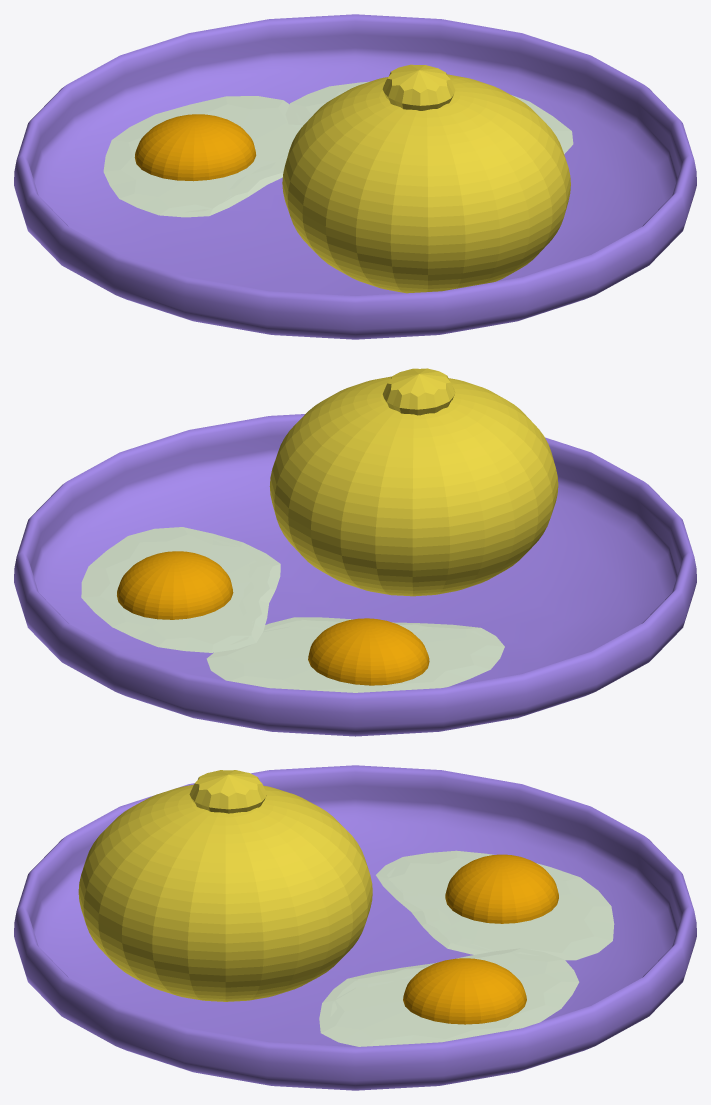
The model's file is cuscus_pratoroxo.fbx.
3 renders of one model, top to bottom at view 1: azimuth 30°, elevation 25°; view 2: azimuth 150°, elevation 25°; view 3: azimuth 270°, elevation 25°, orthographic.
Parts seen in each view (by area): view 1: prato 1; view 2: prato 1; view 3: prato 1.
Boxes of the visible parts, bbox=[...] form: prato 1: bbox=[14, 14, 696, 339]; prato 1: bbox=[14, 368, 696, 736]; prato 1: bbox=[14, 765, 696, 1090].
Bounding box in the file's own units: 201 × 68.79 × 201.
